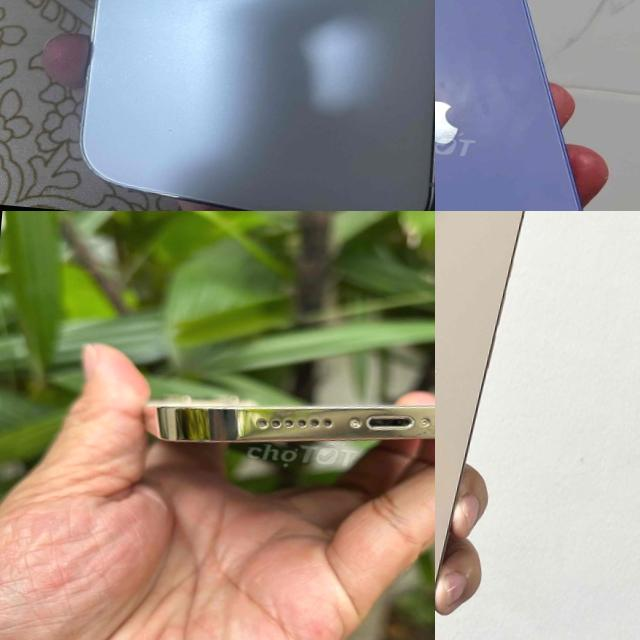gen_12_13: (45, 0, 435, 211), (435, 211, 537, 640), (435, 0, 640, 211)
gen_14: (136, 361, 435, 475)
